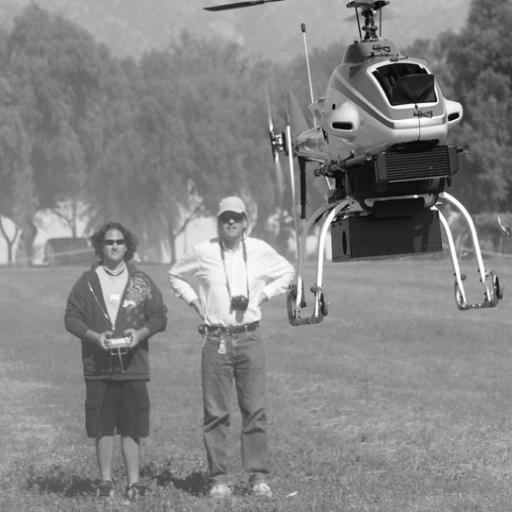helicopter: (189, 1, 512, 315)
